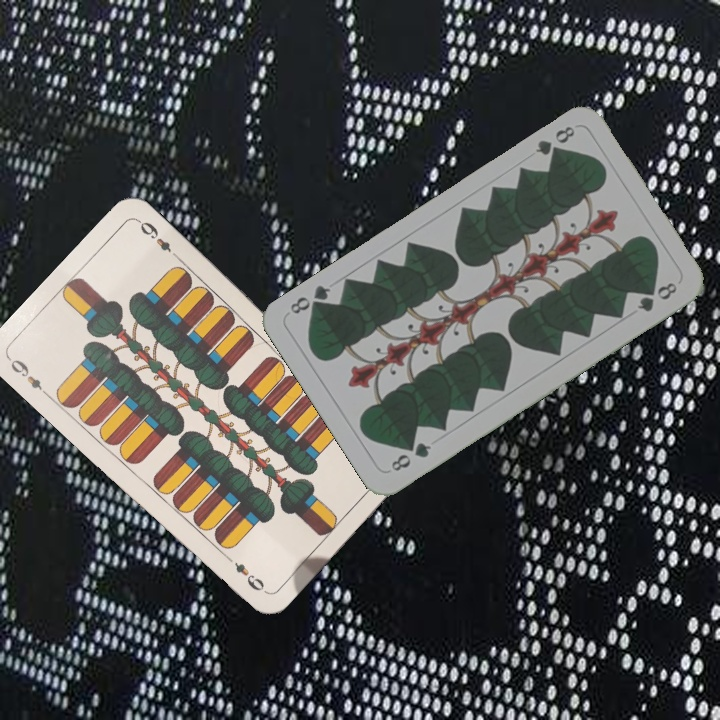E9: (5, 354, 52, 399)
G8: (531, 121, 578, 163), (387, 438, 434, 474)
